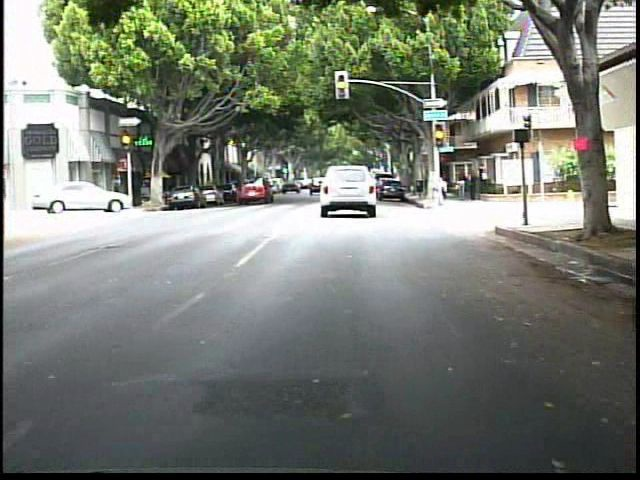person: (430, 171, 451, 210), (455, 167, 470, 202), (465, 167, 479, 204), (477, 161, 488, 196)
